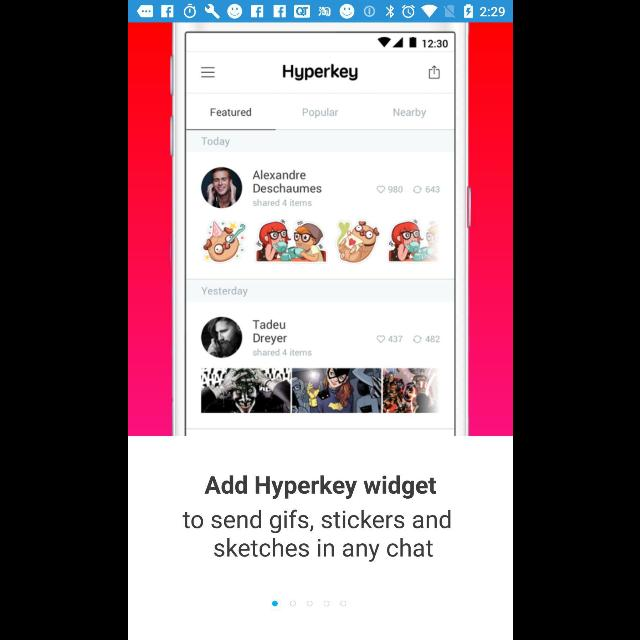image: (169, 22, 471, 436)
pageindicator: (270, 600, 346, 606)
text: (181, 509, 451, 563), (204, 474, 436, 500)
uppertaskbar: (128, 1, 512, 23)
